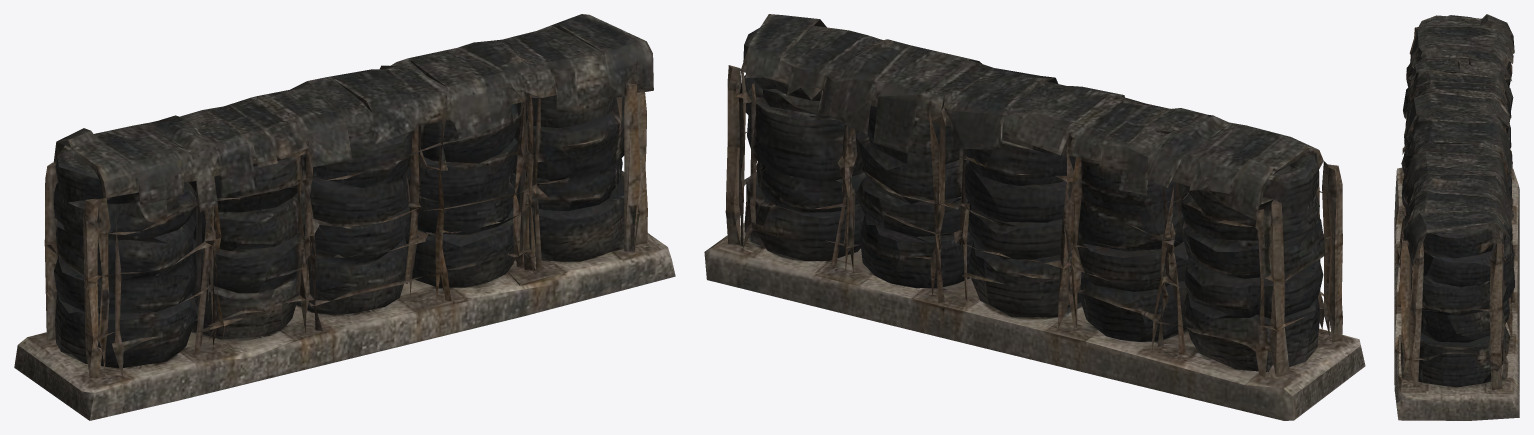
The model's file is tire_wall.glb.
3 views of the same model, side by side, from view 1: azimuth 30°, elevation 25°; view 2: azimuth 150°, elevation 25°; view 3: azimuth 270°, elevation 25° (orthographic). The views are drawn at different scales.
Visible parts, largest first — view 1: tire_wall; view 2: tire_wall; view 3: tire_wall.
Boxes of the visible parts, x1,y1,x2,y2 form: tire_wall: (14,14,675,420); tire_wall: (704,14,1365,420); tire_wall: (1394,14,1519,420).
Size of the model in its own units: 1.9 by 0.7227 by 0.4308.
1 material, 1 textured.
